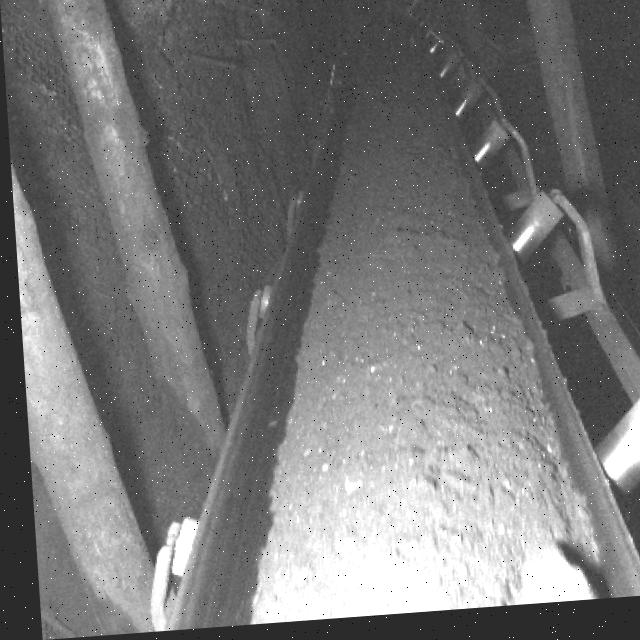large_sized_coal: (509, 548, 629, 612)
